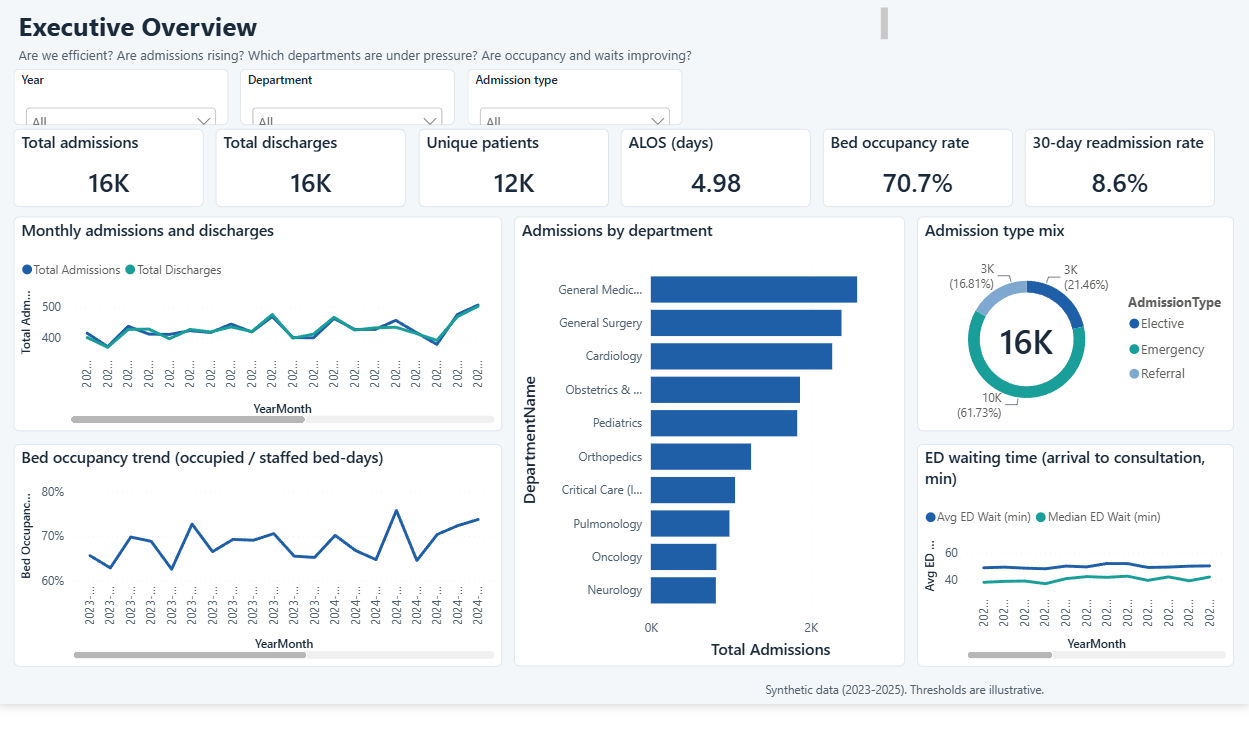

This screenshot's page, from the dashboard's own definition file:
{"tool":"powerbi","page":{"name":"Executive Overview","canvas":[1280,720],"ordinal":0},"visuals":[{"type":"textbox","box":[16,2,900,44],"z":100},{"type":"textbox","box":[16,42,1240,30],"z":200},{"type":"textbox","box":[780,690,484,30],"z":300},{"type":"slicer","title":"Year","fields":{"Values":["DimDate.Year"]},"box":[16,70,220,58],"z":400},{"type":"slicer","title":"Department","fields":{"Values":["DimDepartments.DepartmentName"]},"box":[248,70,220,58],"z":500},{"type":"slicer","title":"Admission type","fields":{"Values":["FactAdmissions.AdmissionType"]},"box":[480,70,220,58],"z":600},{"type":"card","title":"Total admissions","fields":{"Values":["_Measures.Total Admissions"]},"box":[16,132,195,80],"z":700},{"type":"card","title":"Total discharges","fields":{"Values":["_Measures.Total Discharges"]},"box":[223,132,195,80],"z":800},{"type":"card","title":"Unique patients","fields":{"Values":["_Measures.Total Unique Patients"]},"box":[430,132,195,80],"z":900},{"type":"card","title":"ALOS (days)","fields":{"Values":["_Measures.ALOS"]},"box":[637,132,195,80],"z":1000},{"type":"card","title":"Bed occupancy rate","fields":{"Values":["_Measures.Bed Occupancy Rate"]},"box":[844,132,195,80],"z":1100},{"type":"card","title":"30-day readmission rate","fields":{"Values":["_Measures.30-Day Readmission Rate"]},"box":[1051,132,195,80],"z":1200},{"type":"lineChart","title":"Monthly admissions and discharges","fields":{"Category":["DimDate.YearMonth"],"Y":["_Measures.Total Admissions","_Measures.Total Discharges"]},"box":[16,222,500,220],"z":1300},{"type":"clusteredBarChart","title":"Admissions by department","fields":{"Category":["DimDepartments.DepartmentName"],"Y":["_Measures.Total Admissions"]},"box":[528,222,400,460],"z":1400},{"type":"donutChart","title":"Admission type mix","fields":{"Category":["FactAdmissions.AdmissionType"],"Y":["_Measures.Total Admissions"]},"box":[940,222,324,220],"z":1500},{"type":"lineChart","title":"Bed occupancy trend (occupied / staffed bed-days)","fields":{"Category":["DimDate.YearMonth"],"Y":["_Measures.Bed Occupancy Rate"]},"box":[16,454,500,228],"z":1600},{"type":"lineChart","title":"ED waiting time (arrival to consultation, min)","fields":{"Category":["DimDate.YearMonth"],"Y":["_Measures.Avg ED Wait (min)","_Measures.Median ED Wait (min)"]},"box":[940,454,324,228],"z":1700}]}

Visuals, with their boxes on the page's 1280x720 design canvas (x1, y1, x2, y2). These are canvas units, not pixel positions in the 1249x745 screenshot, which may show the page scaled, cropped or inside an application window:
textbox: [16, 2, 916, 46]
textbox: [16, 42, 1256, 72]
textbox: [780, 690, 1264, 720]
"Year" slicer: [16, 70, 236, 128]
"Department" slicer: [248, 70, 468, 128]
"Admission type" slicer: [480, 70, 700, 128]
"Total admissions" card: [16, 132, 211, 212]
"Total discharges" card: [223, 132, 418, 212]
"Unique patients" card: [430, 132, 625, 212]
"ALOS (days)" card: [637, 132, 832, 212]
"Bed occupancy rate" card: [844, 132, 1039, 212]
"30-day readmission rate" card: [1051, 132, 1246, 212]
"Monthly admissions and discharges" lineChart: [16, 222, 516, 442]
"Admissions by department" clusteredBarChart: [528, 222, 928, 682]
"Admission type mix" donutChart: [940, 222, 1264, 442]
"Bed occupancy trend (occupied / staffed bed-days)" lineChart: [16, 454, 516, 682]
"ED waiting time (arrival to consultation, min)" lineChart: [940, 454, 1264, 682]
